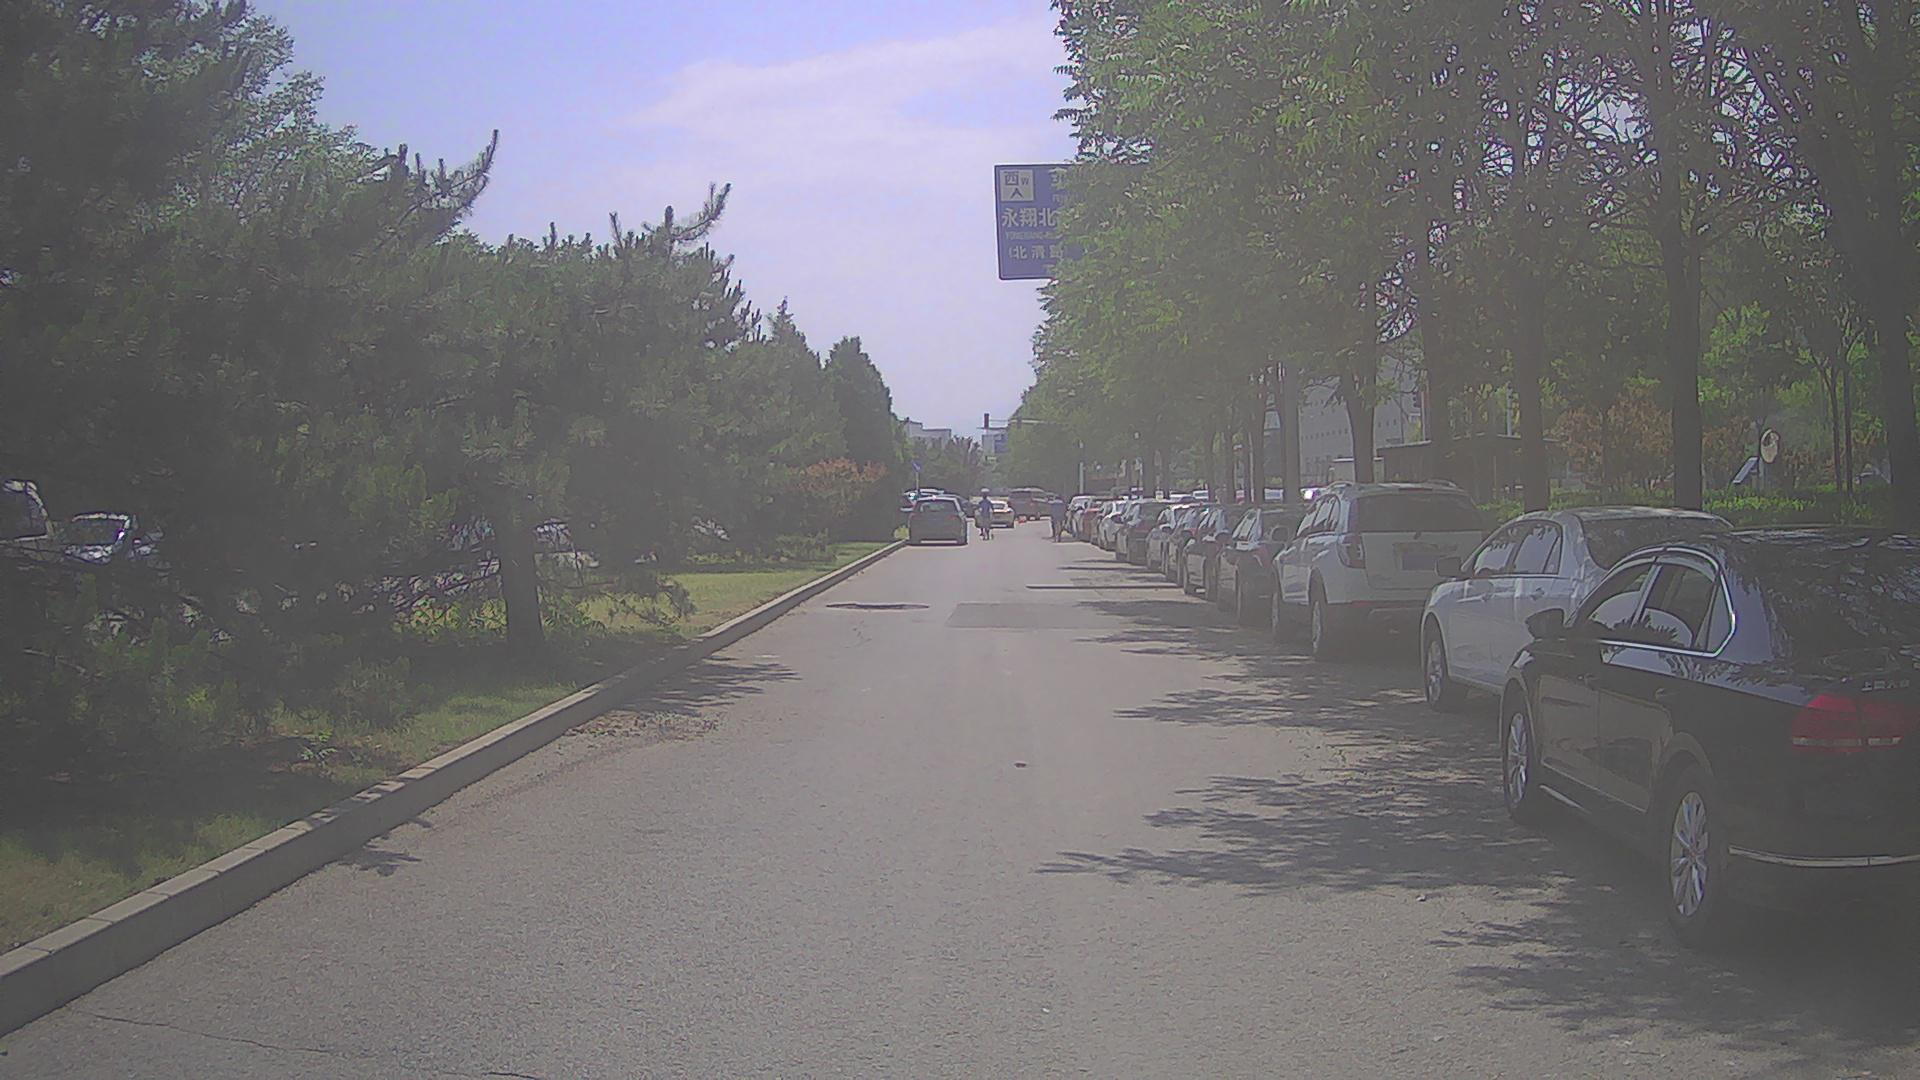car: (1498, 524, 1918, 950), (1421, 506, 1776, 711), (1270, 479, 1491, 660), (1215, 502, 1379, 625), (1181, 503, 1293, 600), (1162, 506, 1246, 585), (1111, 498, 1200, 566), (1146, 508, 1215, 575), (1095, 500, 1161, 550), (909, 497, 967, 544), (973, 499, 1014, 528), (1049, 494, 1065, 542)
cyclist: (975, 491, 995, 541)
ignore: (1, 480, 163, 564), (1042, 490, 1110, 545), (899, 487, 977, 523), (535, 518, 570, 552)
van: (1008, 488, 1059, 520)
